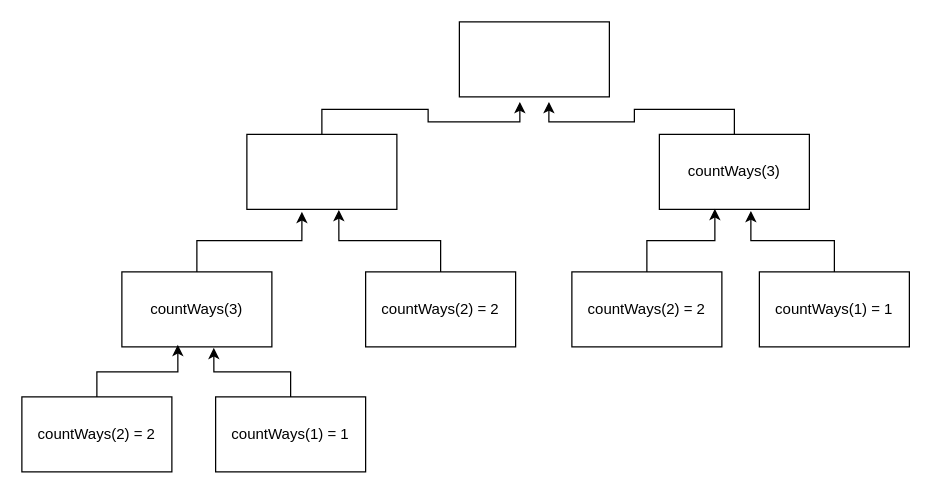
This 931x494 diagram has some shape labels left out. The shapes that lost their labels are listed below. From the top down, each one's box as (x1, y1, x2, y2) in pixels, then its label:
(458, 21, 609, 97): countWays(5)
(246, 133, 397, 209): countWays(4)
